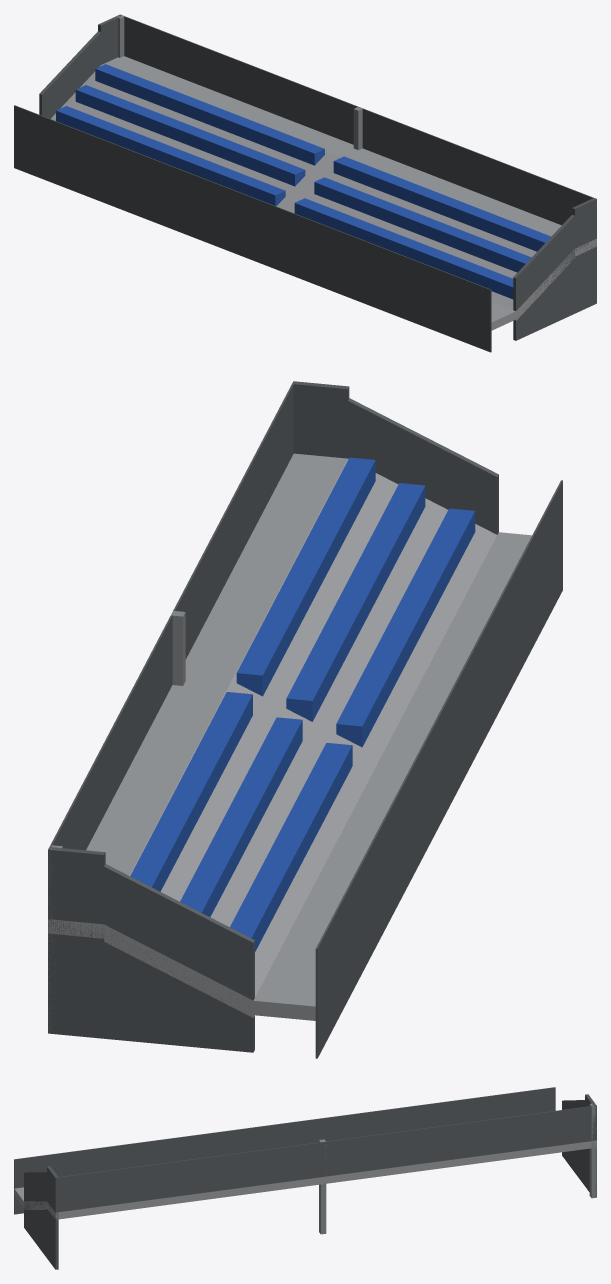
The model's file is mza_stand_trib_p01.glb.
3 renders of one model, top to bottom at view 1: azimuth 30°, elevation 25°; view 2: azimuth 150°, elevation 25°; view 3: azimuth 270°, elevation 25°, orthographic. The views are drawn at different scales.
Visible parts, largest first — view 1: monza-trib-p01; view 2: monza-trib-p01; view 3: monza-trib-p01.
Part boxes in pixels (x1,y1,x2,y2): monza-trib-p01: (14,14,596,352); monza-trib-p01: (48,381,562,1058); monza-trib-p01: (14,1087,596,1269).
Size of the model in its own units: 9.49 by 3.18 by 18.28.
